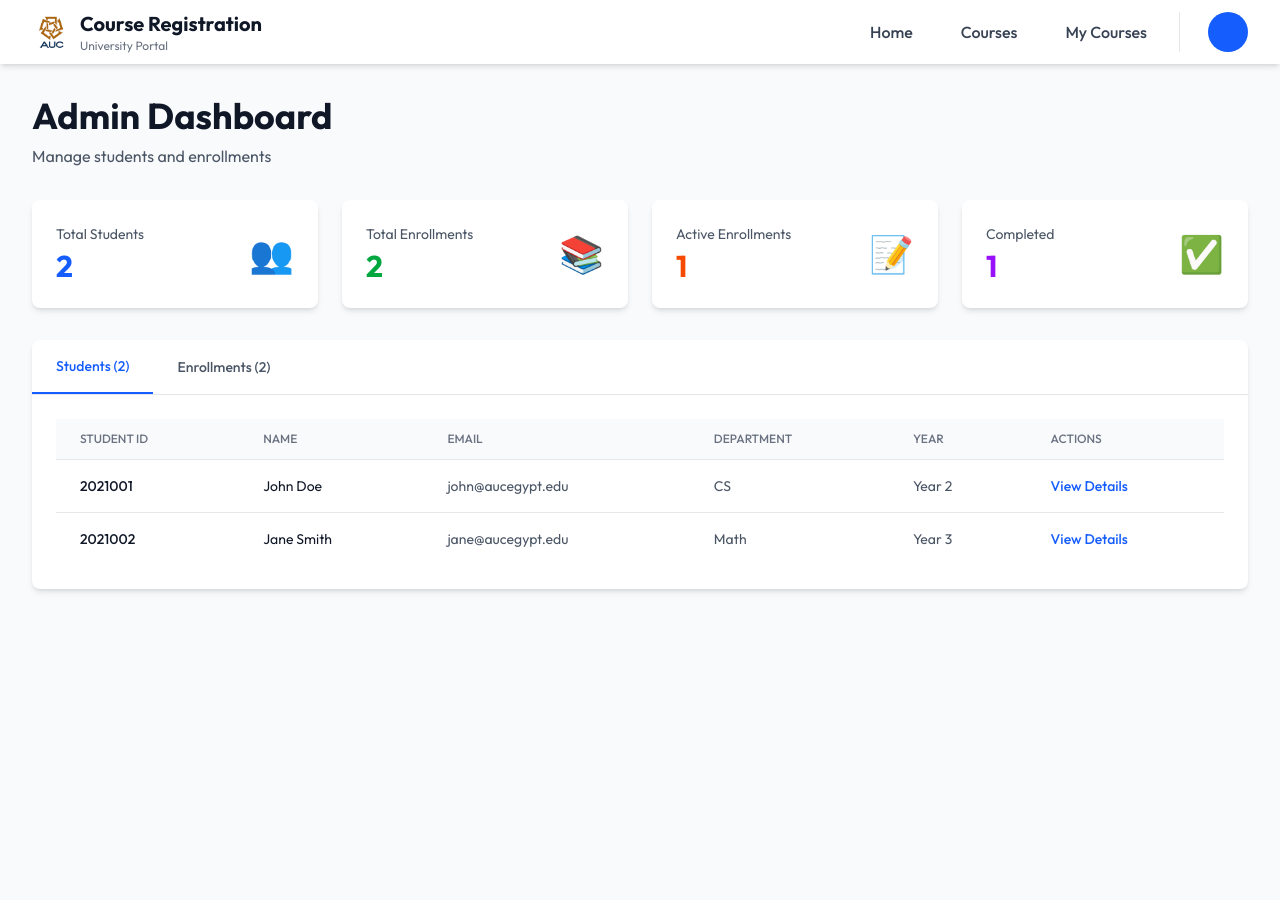
Test: Admin Dashboard › Enrollments Management › should display enrollments when tab is active
Check: the heading "Admin Dashboard" is shown, box [32,93,332,138]
Click the button "Enrollments (2)": (224, 367) [154,340,294,394]
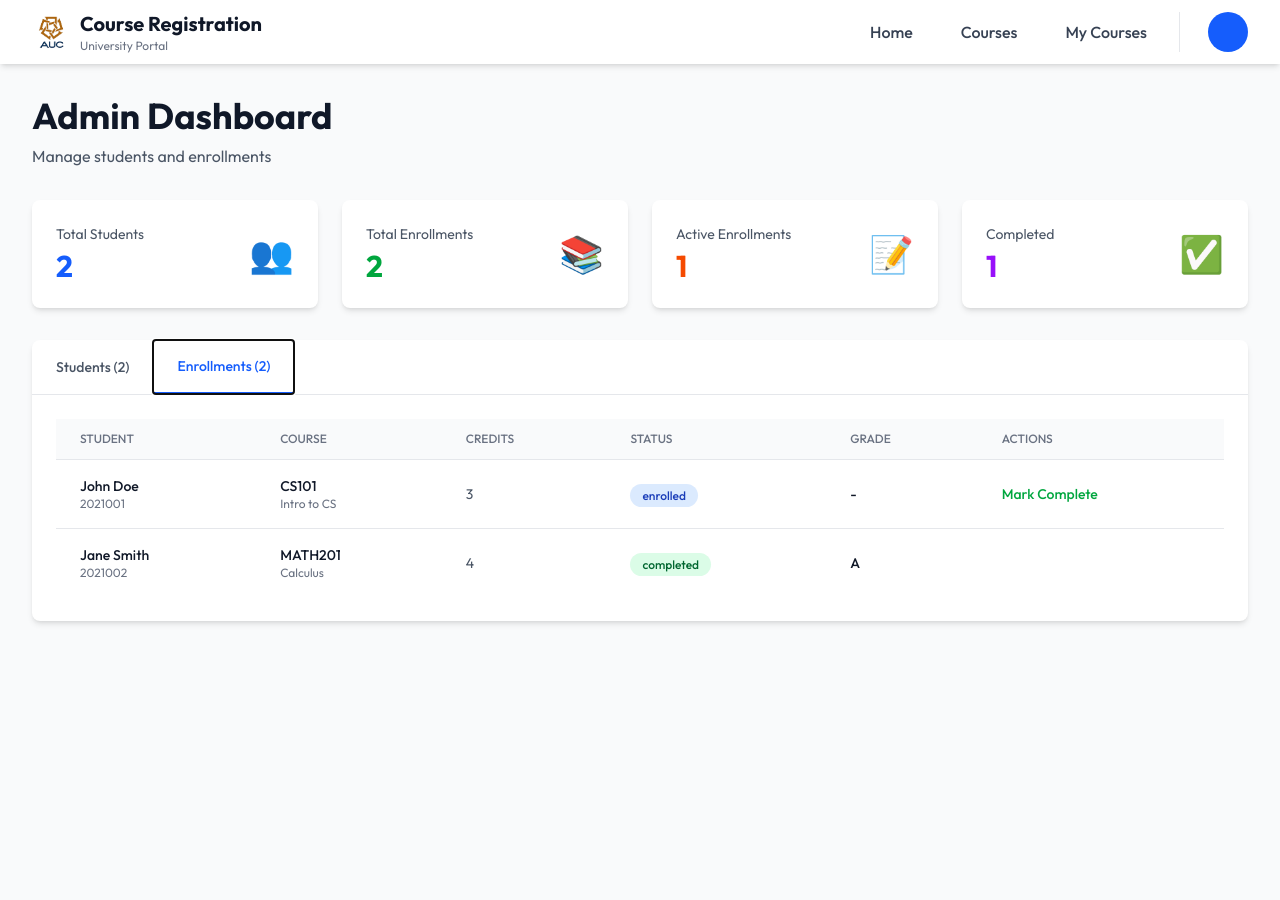
Check: the column heading "Student" is shown, box [56,419,256,460]
Check: the column heading "Course" is shown, box [256,419,442,460]
